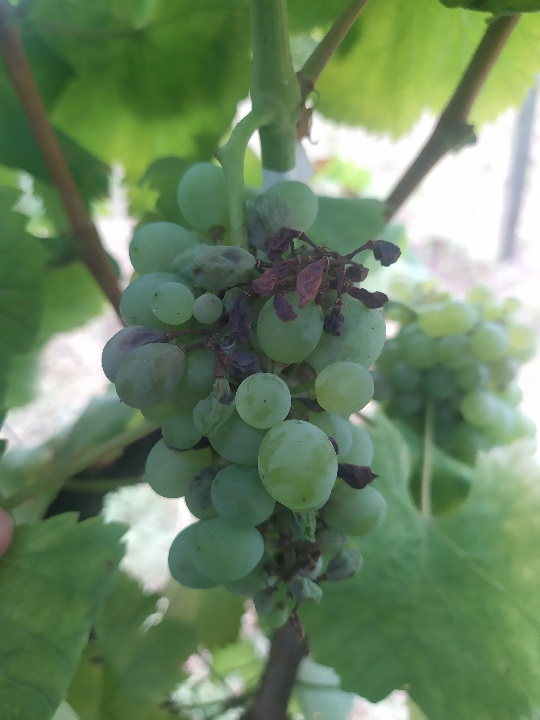grape: (99, 159, 406, 647)
